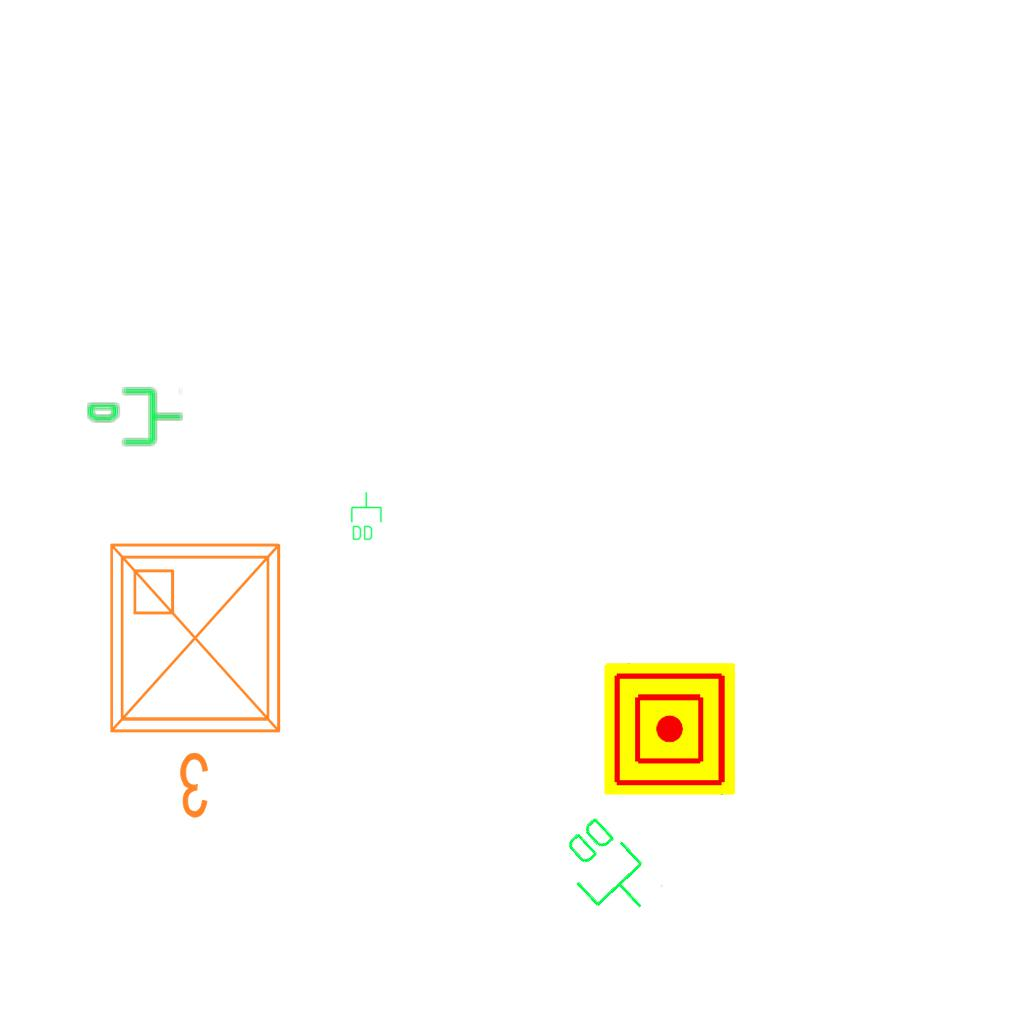Datenanschluss_einfach: (85, 384, 185, 453)
Datenanschluss_zweifach: (547, 809, 668, 932), (349, 491, 383, 542)
Einbaudownlights_LED_Konferenzraeume: (95, 529, 303, 829)
NAM-Nichtautomatischer_Melder: (604, 663, 736, 795)
